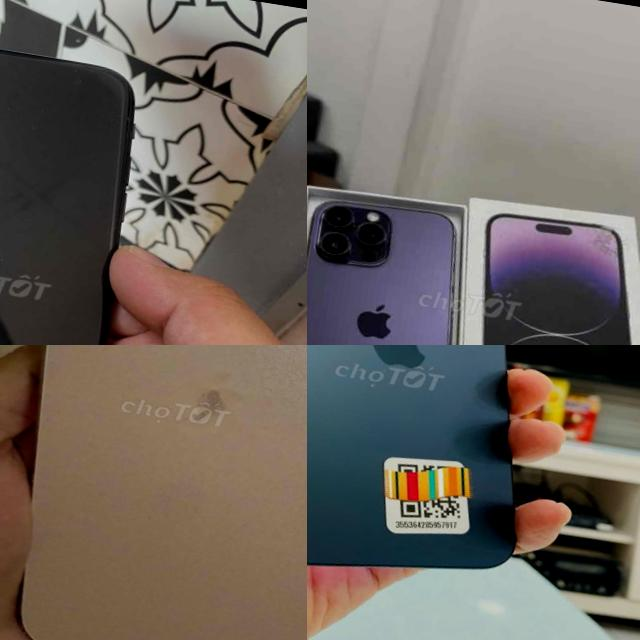gen_14: (307, 186, 486, 345)
gen_15: (307, 345, 584, 604)
gen_16: (0, 345, 307, 640)
gen_7_8: (0, 14, 176, 345)
